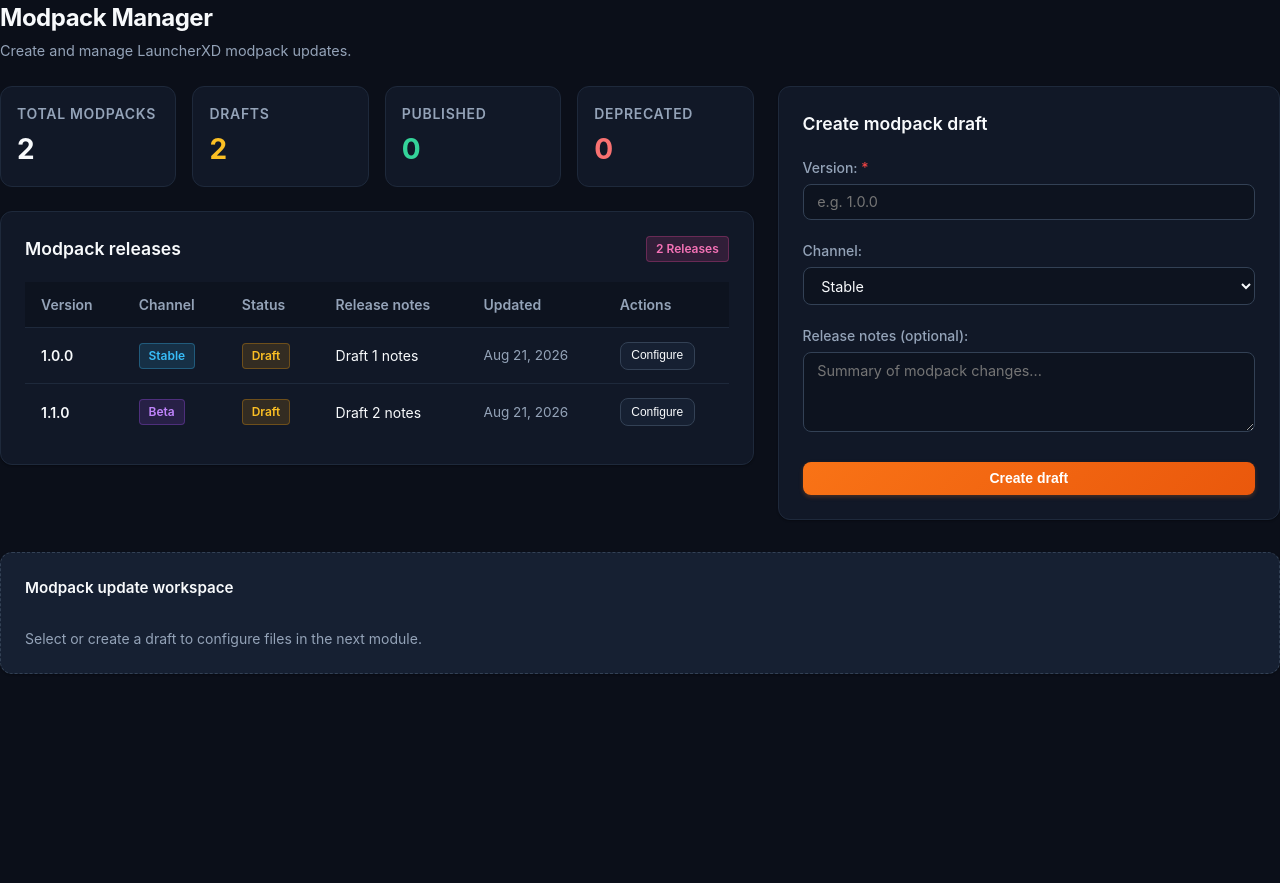
Scenario: Modpack Workspace Inline UI Functional Tests (Module 3B-1) › 6. Changing selected release uses the new ID
Expected: the button with test id "configure-modpack-modpack-draft-2" is shown, [620,398,695,426]
// Select Draft 1
Click the button with test id "configure-modpack-modpack-draft-1" at x=657, y=356, box [620,342,695,370]
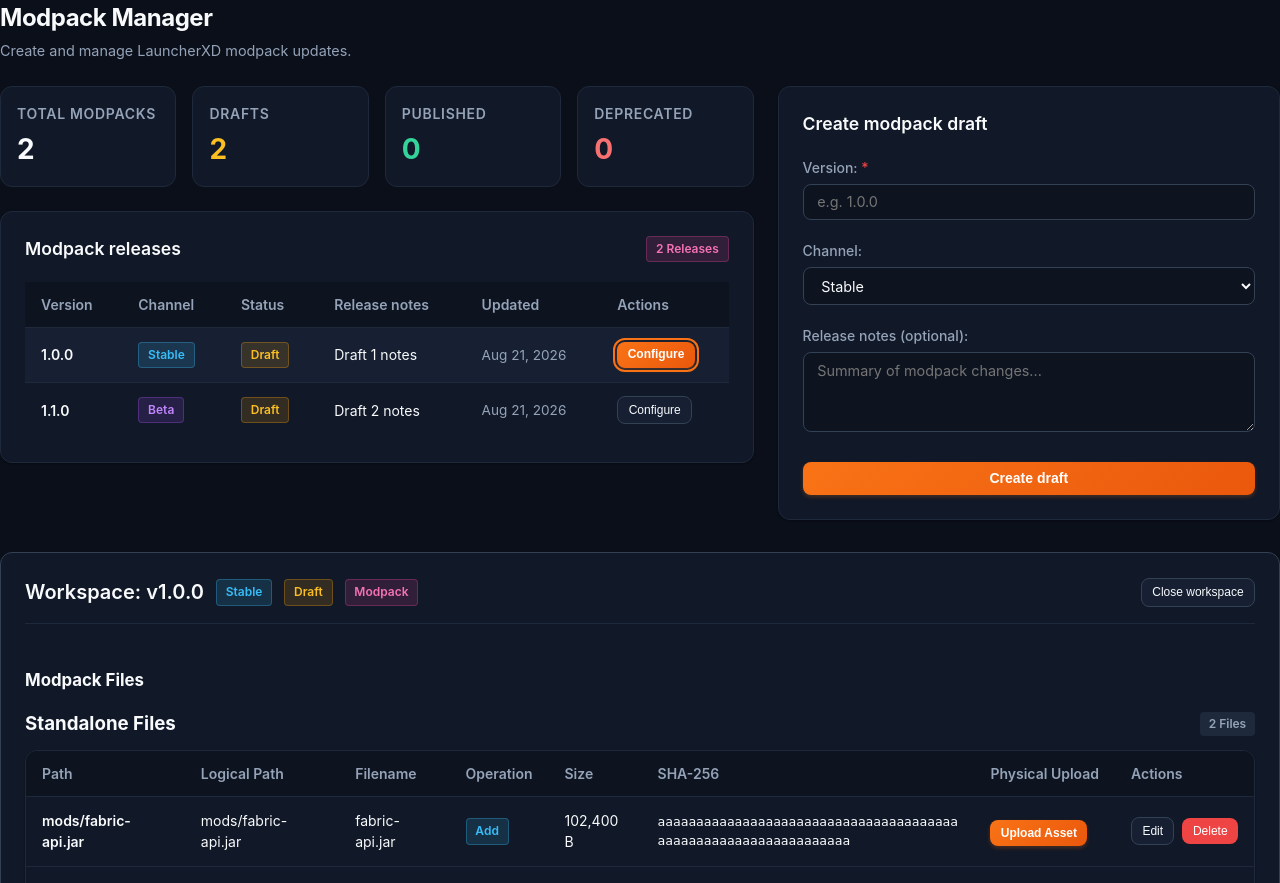
Now the heading "Workspace: v1.0.0" is shown, box [25,578,204,608]
Now the 1st text "mods/fabric-api.jar" is shown, box [26,796,185,866]
// Select Draft 2
Click the button with test id "configure-modpack-modpack-draft-2" at x=655, y=410, box [617,396,692,424]
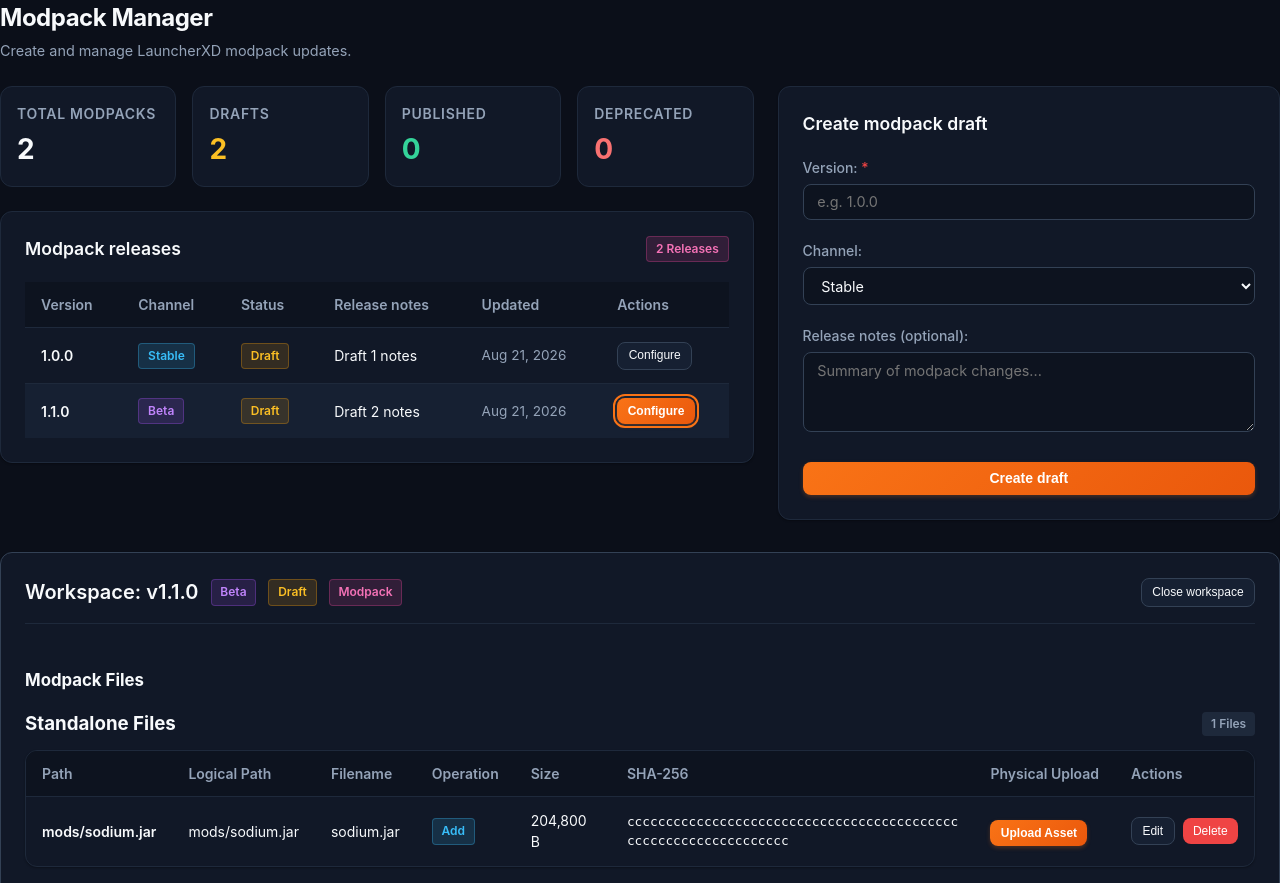
Now the heading "Workspace: v1.1.0" is shown, box [25,578,198,608]
Now the 1st text "mods/sodium.jar" is shown, box [26,796,172,866]
Now the text "mods/fabric-api.jar" is gone
